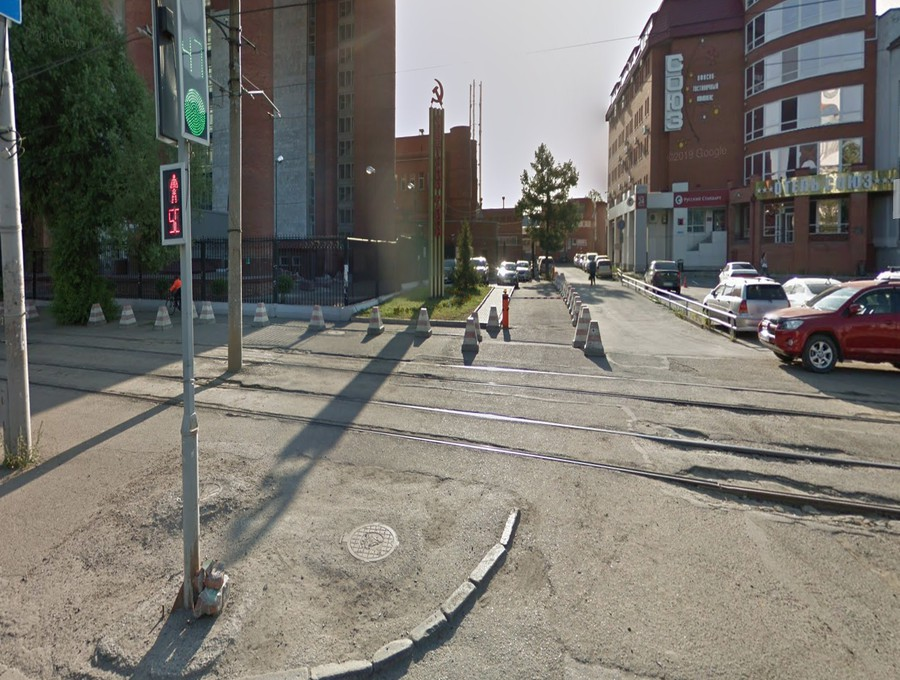Traffic Light-red: (150, 161, 197, 251)
